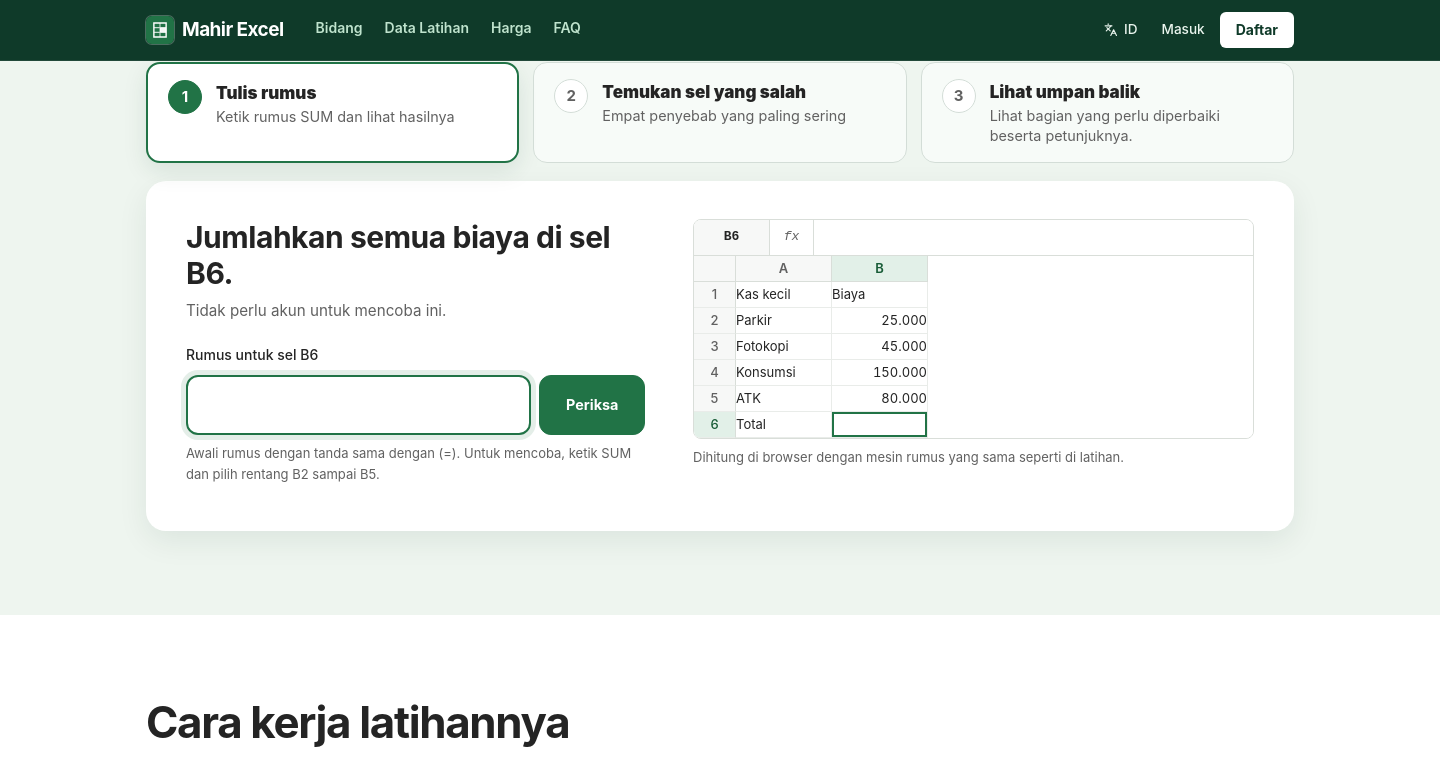
beranda pengunjung › coba satu rumus › SUM yang benar lolos dan mengajak daftar dengan jumlah latihan lain
(page scrolled)
Type "=SUM(B2:B5)" into the field labelled "Rumus untuk sel B6" at (359, 405), box x1=186 y1=375 x2=531 y2=435
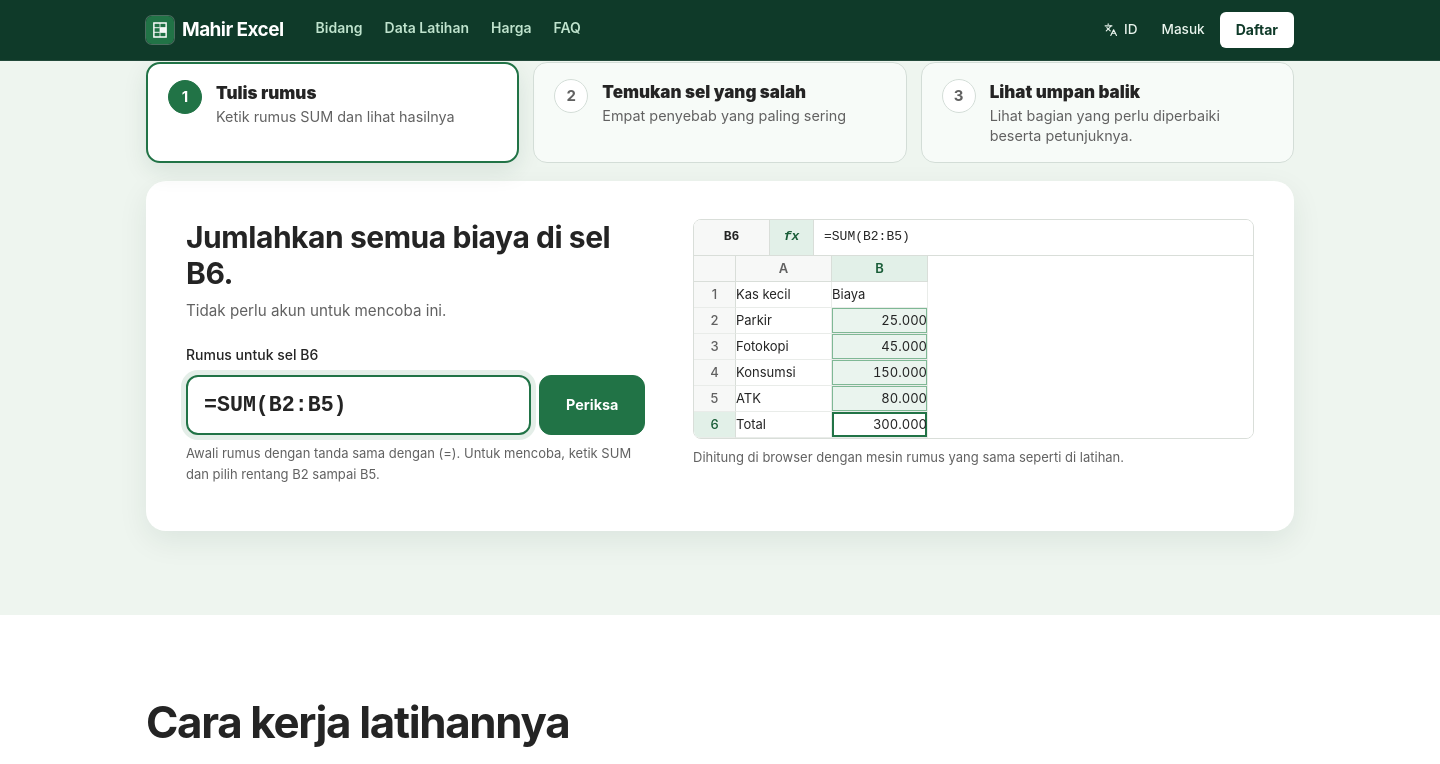
Click the button "Periksa" at (592, 405), box x1=539 y1=375 x2=645 y2=435
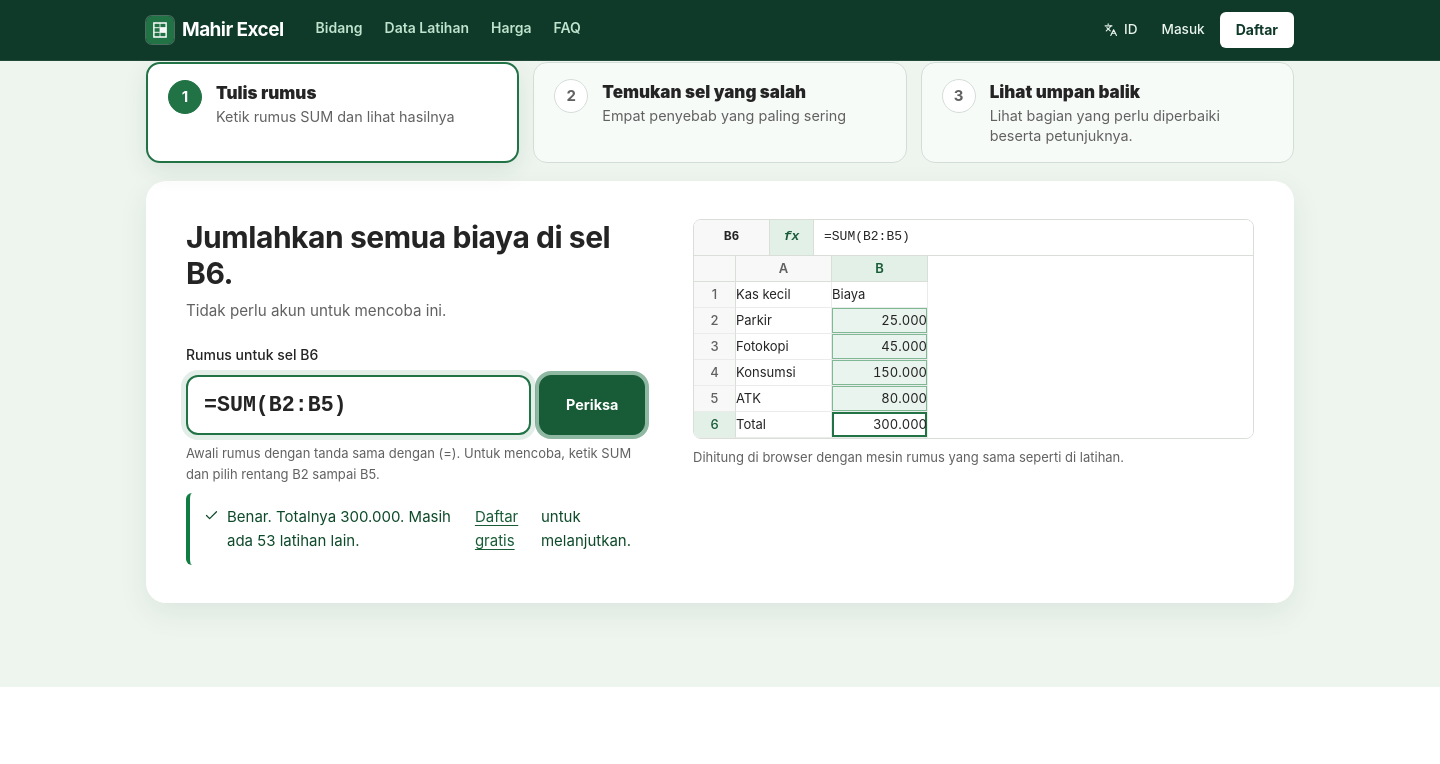
Result: the text "Masih ada 53 latihan lain" is shown at x1=186 y1=493 x2=645 y2=565
